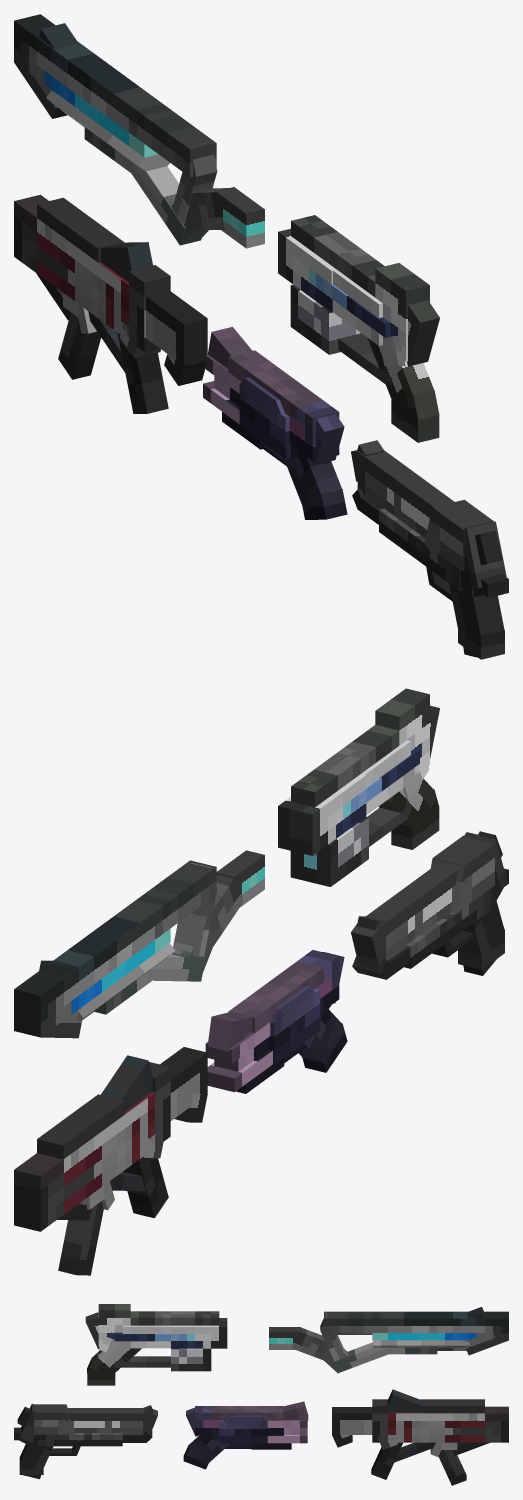
3 renders of one model, top to bottom at view 1: azimuth 30°, elevation 25°; view 2: azimuth 150°, elevation 25°; view 3: azimuth 270°, elevation 25°, orthographic. The views are drawn at different scales.
Visible parts, largest first — view 1: cube (×43); view 2: cube (×41); view 3: cube (×49).
Boxes of the visible parts, box(x1,y1,x2,y2) form: cube (×43): box(14, 14, 506, 659); cube (×41): box(14, 688, 507, 1275); cube (×49): box(19, 1304, 508, 1485).
Size of the model in its own units: 0.1875 by 1.51 by 3.84.
Materials: 5 (5 with a texture image).
